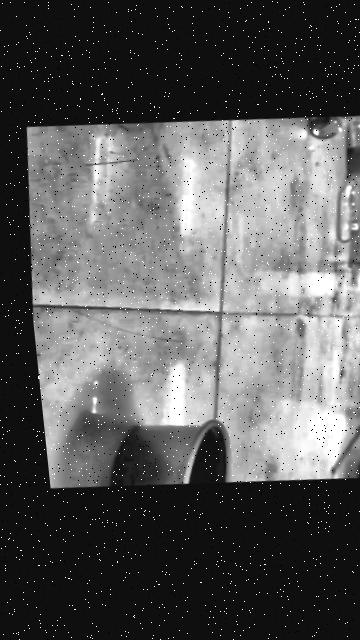pot: (103, 411, 234, 494)
